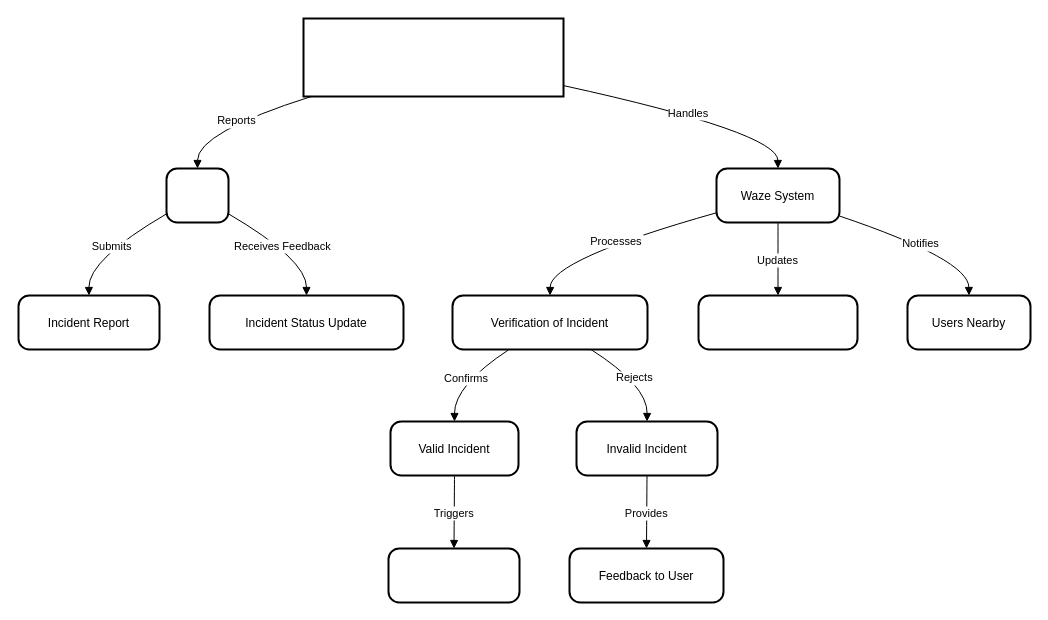
Image size: 1048x620. Some labels were removed from this diagram. Each missing label, with the box of its shape:
Close Incident: (387, 547, 520, 603)
Incident Database: (697, 294, 858, 350)
User: (165, 167, 229, 223)
User-Reported Incidents Waze: (302, 17, 564, 97)
